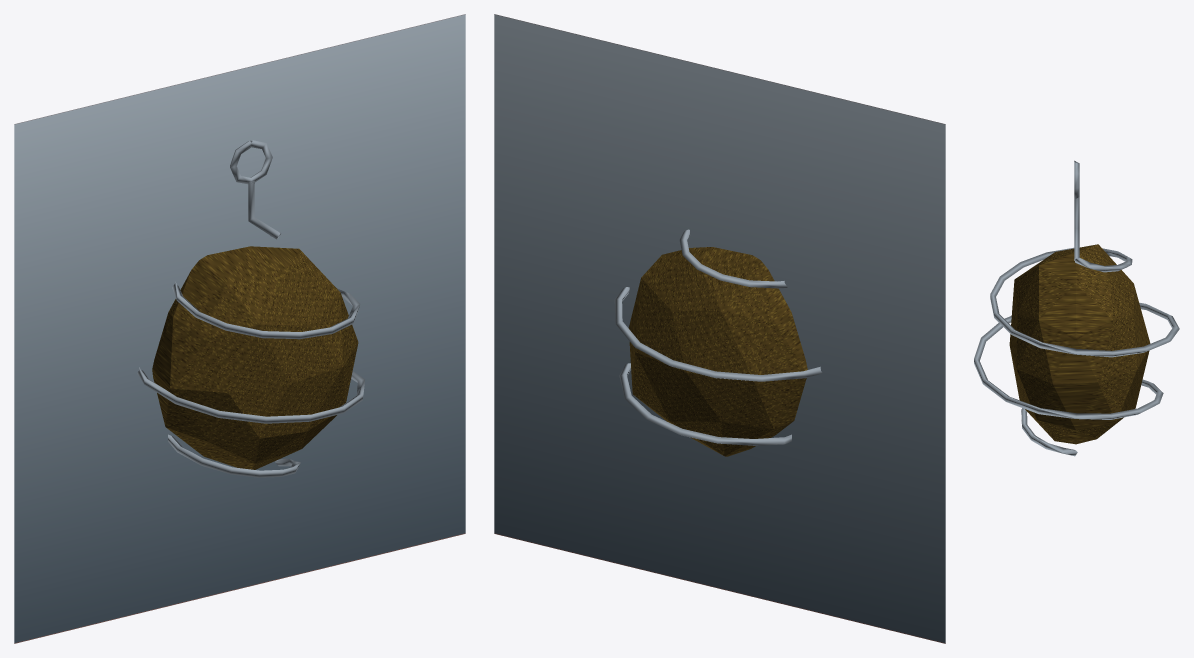
Rendered from fermented_dough.glb.
3 views of the same model, side by side, from view 1: azimuth 30°, elevation 25°; view 2: azimuth 150°, elevation 25°; view 3: azimuth 270°, elevation 25° (orthographic). The views are drawn at different scales.
Visible parts, largest first — view 1: fermented_dough__Hook_cluster_and_branches_ALPHA, fermented_dough__Groundbait_lump_MESH, fermented_dough__Feeder_spring_MESH, fermented_dough__Line_tie_eye_MESH; view 2: fermented_dough__Hook_cluster_and_branches_ALPHA, fermented_dough__Groundbait_lump_MESH, fermented_dough__Feeder_spring_MESH; view 3: fermented_dough__Groundbait_lump_MESH, fermented_dough__Feeder_spring_MESH, fermented_dough__Eye_to_spring_MESH.
Boxes of the visible parts, x1,y1,x2,y2 form: fermented_dough__Hook_cluster_and_branches_ALPHA: [14, 14, 465, 643]; fermented_dough__Groundbait_lump_MESH: [152, 246, 358, 469]; fermented_dough__Feeder_spring_MESH: [137, 232, 364, 477]; fermented_dough__Line_tie_eye_MESH: [230, 140, 272, 184]; fermented_dough__Hook_cluster_and_branches_ALPHA: [494, 14, 945, 643]; fermented_dough__Groundbait_lump_MESH: [628, 247, 807, 456]; fermented_dough__Feeder_spring_MESH: [614, 229, 822, 445]; fermented_dough__Groundbait_lump_MESH: [1009, 244, 1150, 444]; fermented_dough__Feeder_spring_MESH: [974, 247, 1179, 456]; fermented_dough__Eye_to_spring_MESH: [1074, 197, 1079, 260].
Bounding box in the file's own units: 0.1 × 0.11 × 0.0463.
3 materials, 2 textured.
